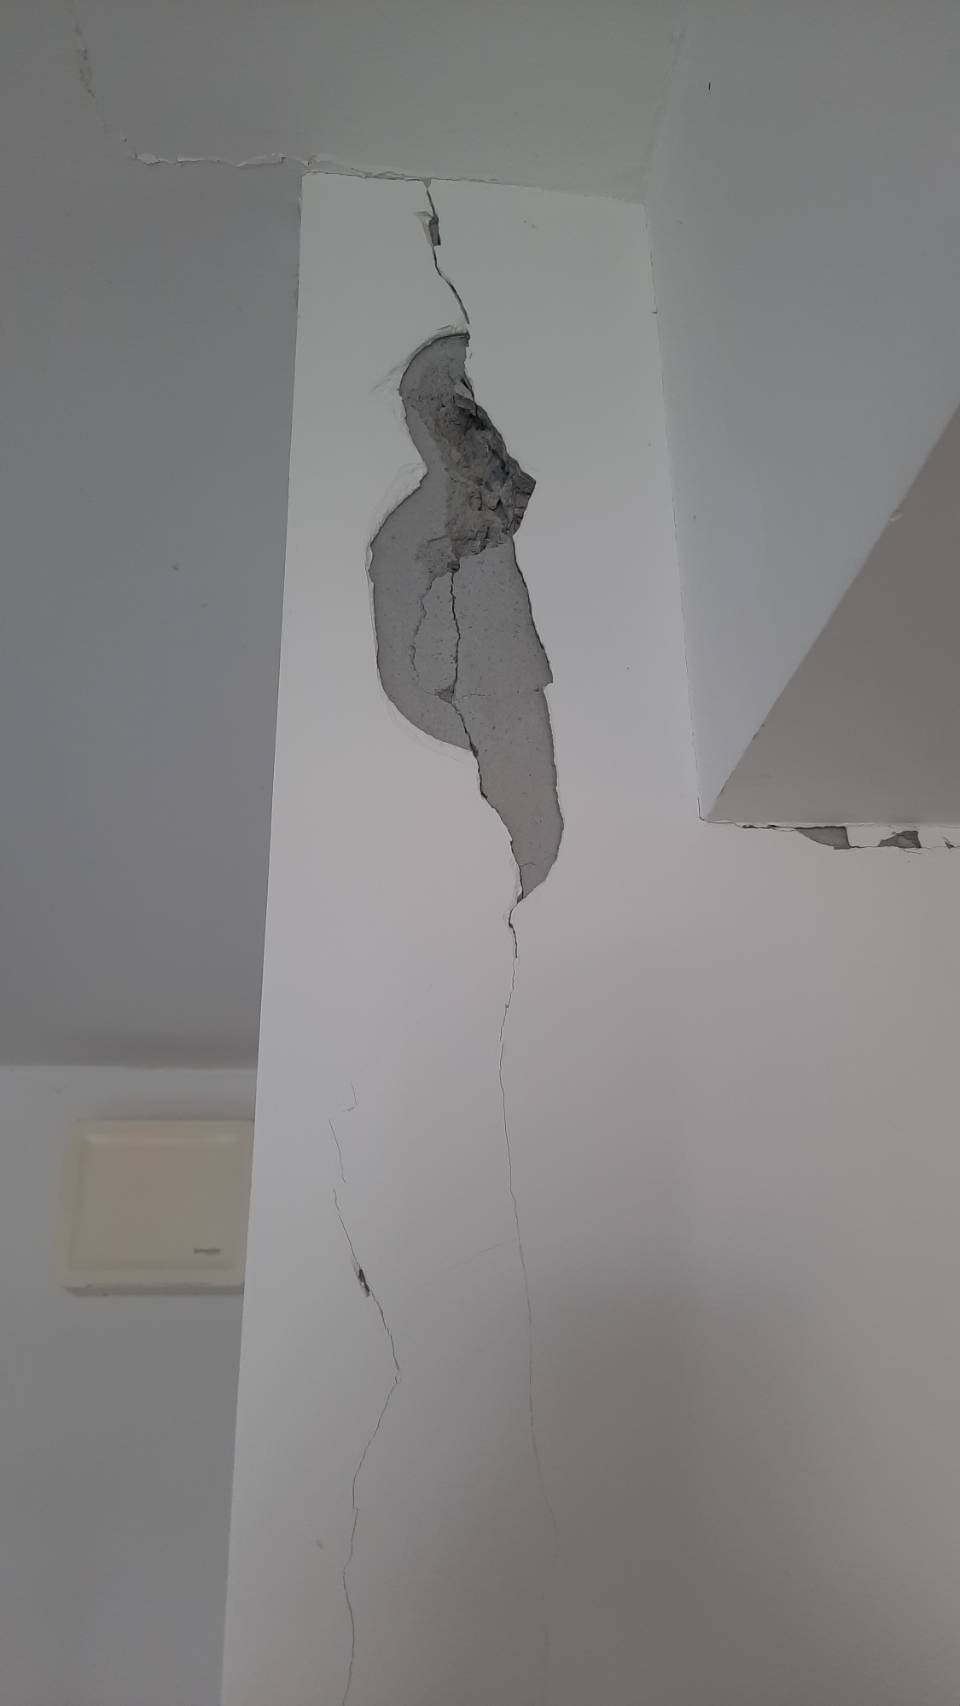Medium: (338, 195, 622, 921)
